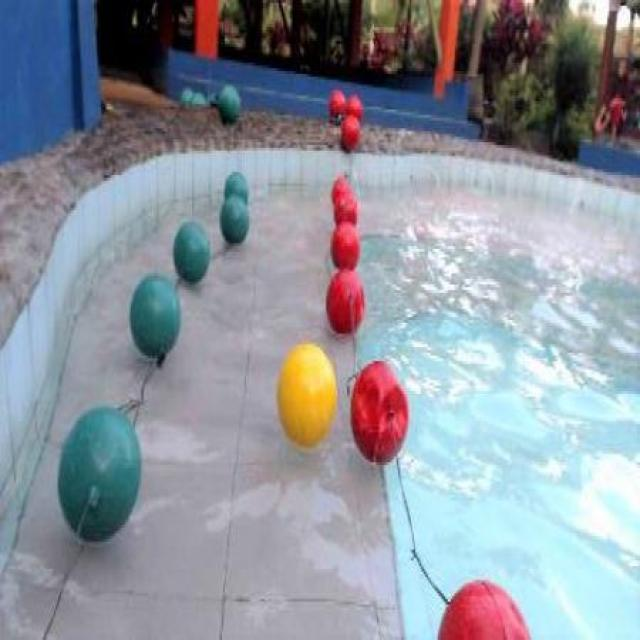buoy: (55, 403, 142, 543), (277, 341, 336, 447), (349, 358, 408, 462), (435, 578, 531, 637), (127, 274, 180, 355), (326, 267, 364, 335), (171, 219, 210, 284), (219, 193, 249, 245), (330, 221, 360, 271), (332, 193, 358, 228), (217, 84, 238, 124), (224, 169, 248, 204), (339, 114, 359, 149), (331, 175, 352, 208), (343, 93, 361, 120), (328, 88, 343, 120)
